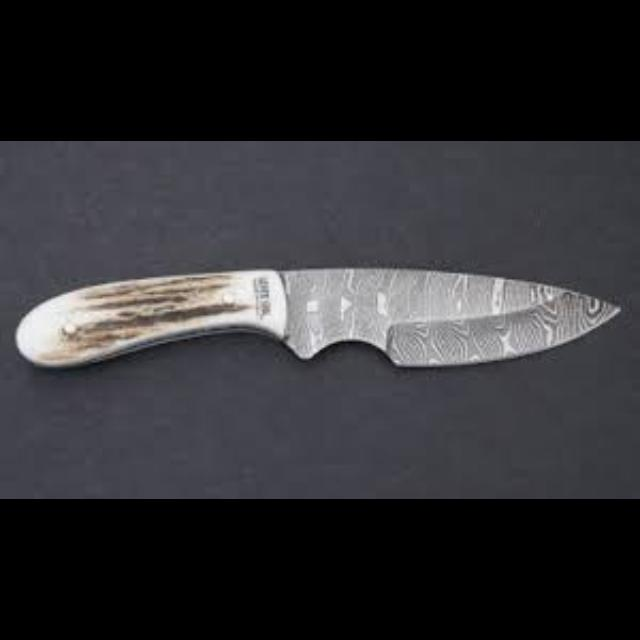knife: (16, 265, 620, 369)
